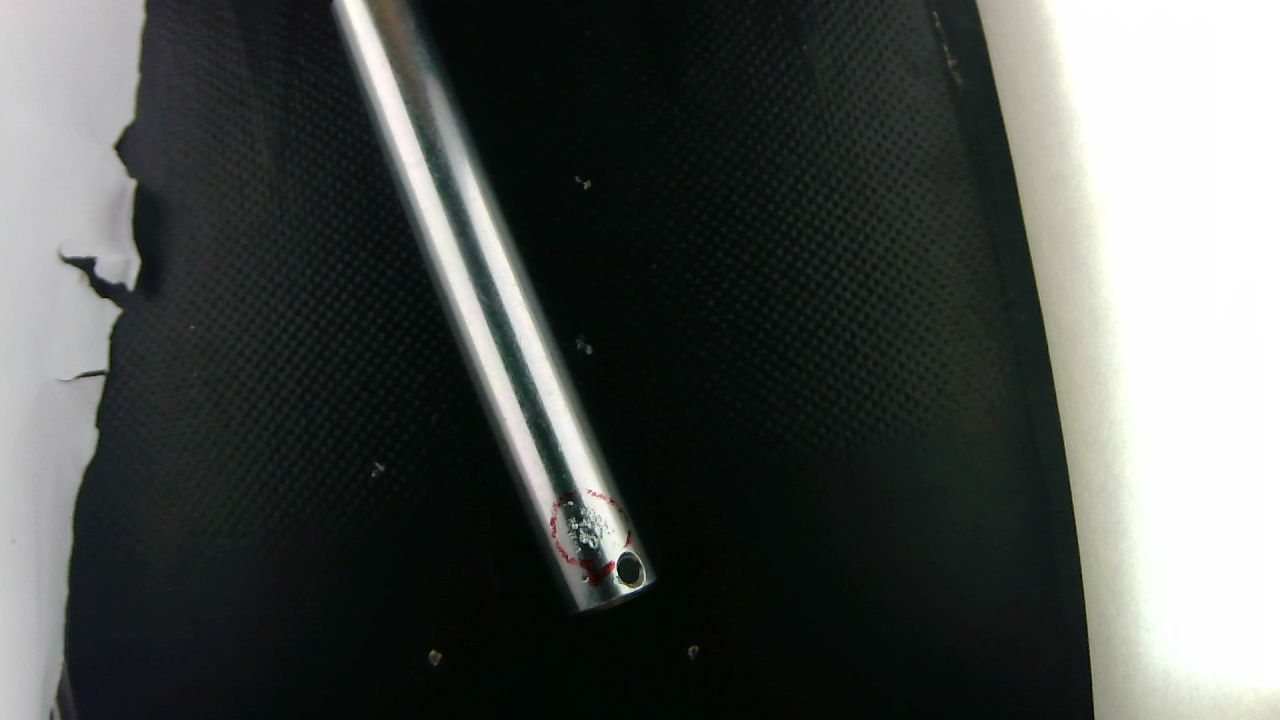odlinemark_pin: (562, 498, 615, 555)
